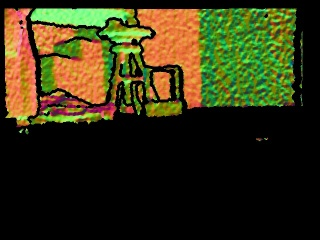station: (142, 65, 185, 117)
